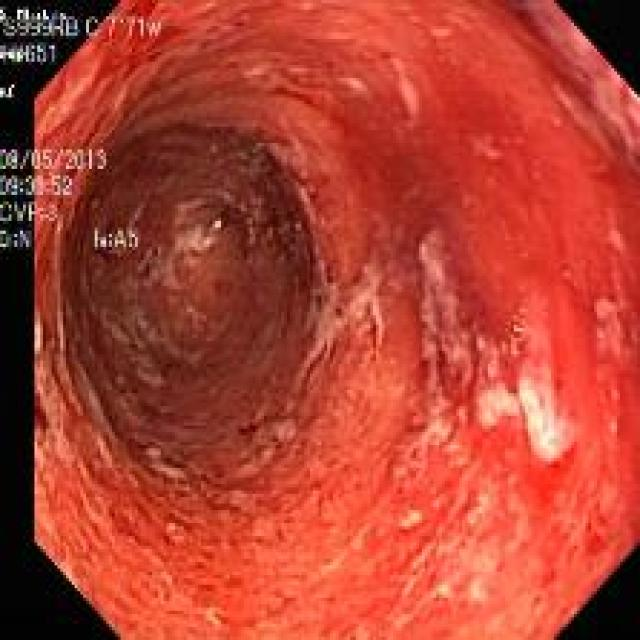ulcerative-colitis-grade-3: (35, 1, 640, 640)
